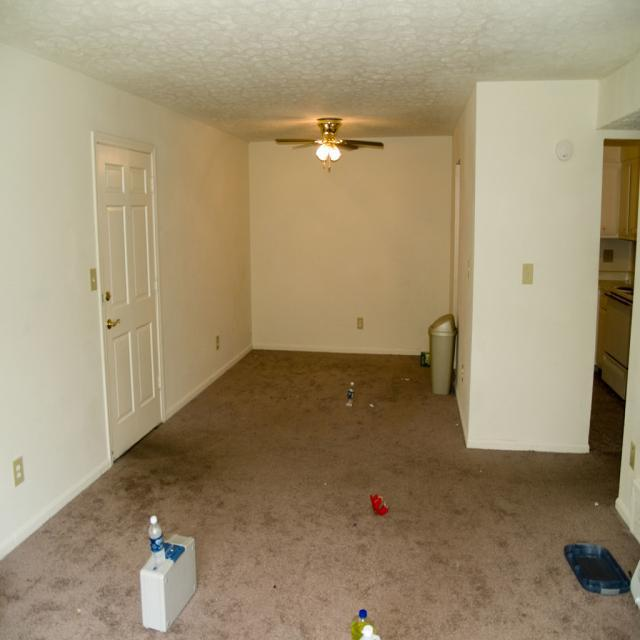bulb_on: (328, 144, 344, 159), (314, 146, 330, 159)
fan_off: (274, 118, 391, 151)
